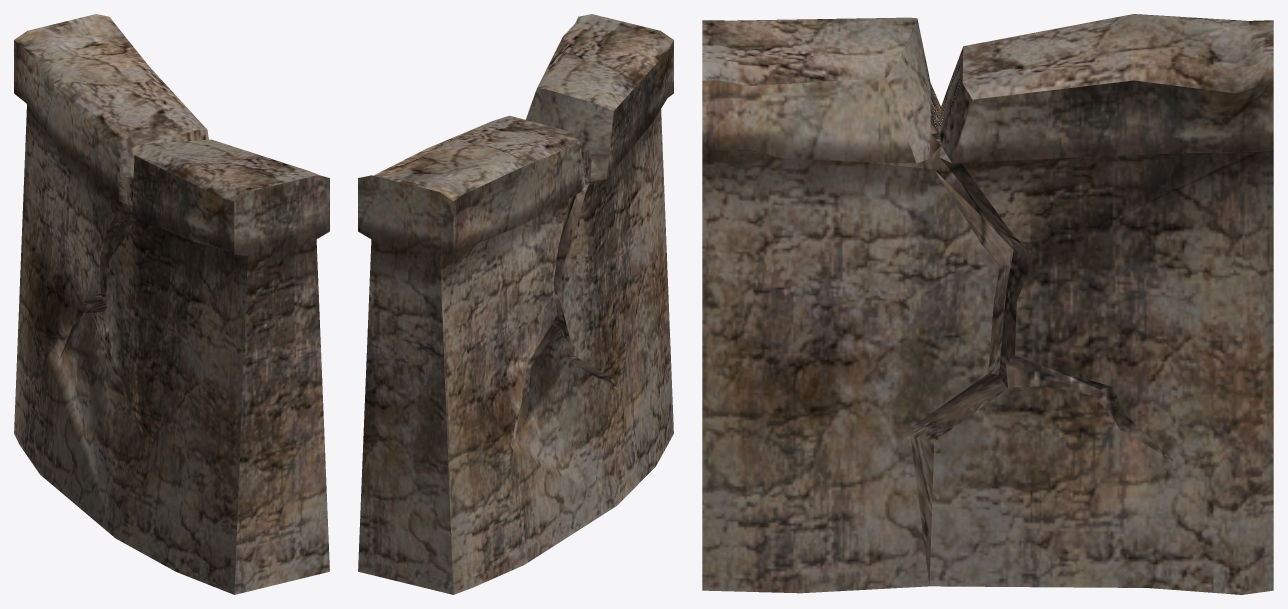
The model's file is MWalA2.glb.
3 views of the same model, side by side, from view 1: azimuth 30°, elevation 25°; view 2: azimuth 150°, elevation 25°; view 3: azimuth 270°, elevation 25° (orthographic). The views are drawn at different scales.
Visible parts, largest first — view 1: _MWalA2; view 2: _MWalA2; view 3: _MWalA2.
Part boxes in pixels (x1,y1,x2,y2): _MWalA2: (14,14,329,594); _MWalA2: (358,14,673,594); _MWalA2: (702,14,1273,594).
Bounding box in the file's own units: 1.4 × 4 × 4.
1 material, 1 textured.
